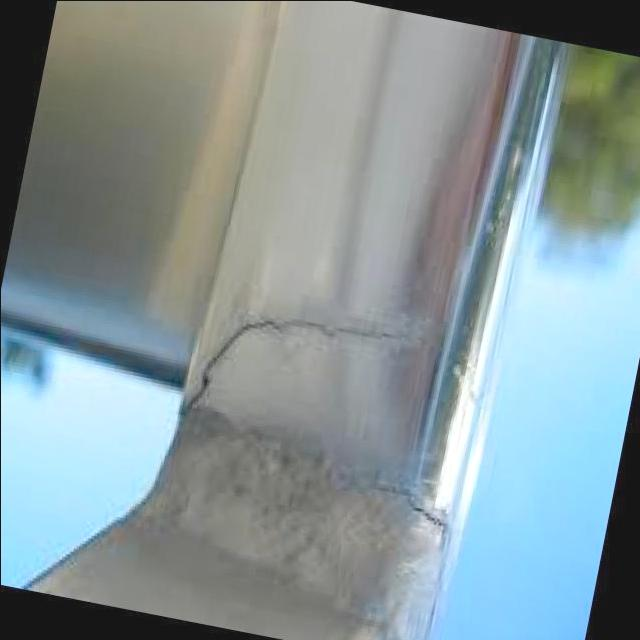defect: (173, 306, 423, 423), (352, 477, 450, 557)
